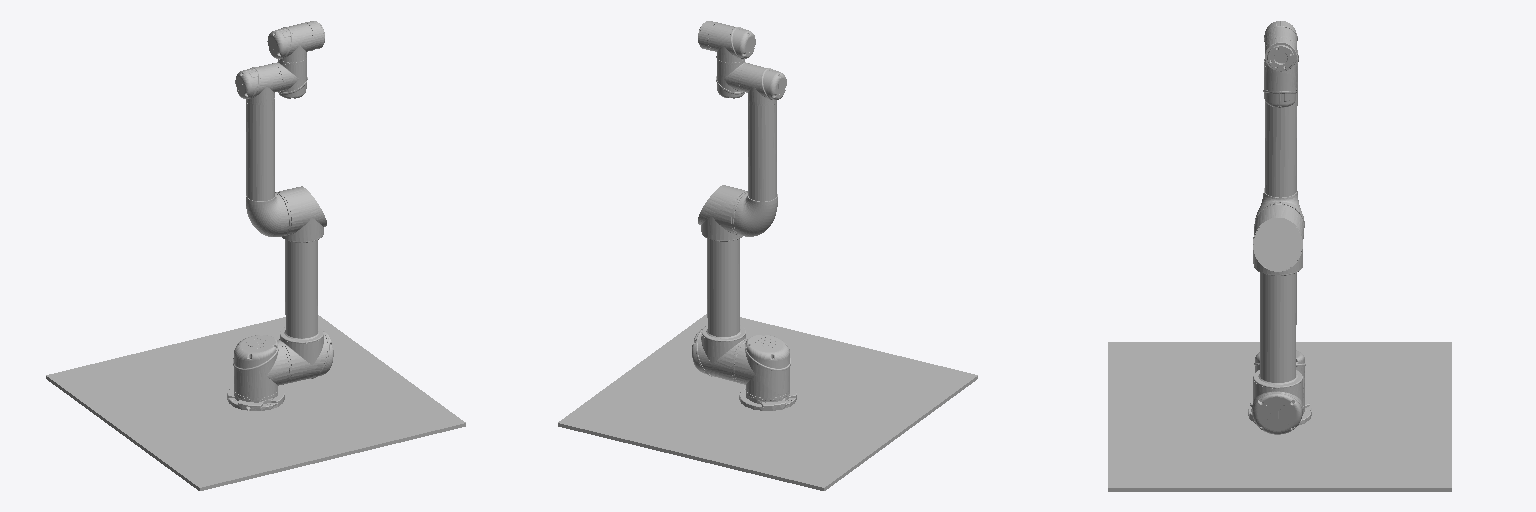
robot.urdf — trial1:
<?xml version="1.0" encoding="utf-8" ?>
<robot name="trial1">
    <!-- joint_1 transmission -->
    <transmission name="joint_1_transmission">
        <type>transmission_interface/SimpleTransmission</type>
        <joint name="base_link1_joint">
            <hardwareInterface>hardware_interface/EffortJointInterface</hardwareInterface>
        </joint>
        <actuator name="link1_motor">
            <mechanicalReduction>1</mechanicalReduction>
            <hardwareInterface>hardware_interface/EffortJointInterface</hardwareInterface>
        </actuator>
    </transmission>
    <!-- joint_2 transmission -->
    <transmission name="joint_2_transmission">
        <type>transmission_interface/SimpleTransmission</type>
        <joint name="link1_link2_joint">
            <hardwareInterface>hardware_interface/EffortJointInterface</hardwareInterface>
        </joint>
        <actuator name="link2_motor">
            <mechanicalReduction>1</mechanicalReduction>
            <hardwareInterface>hardware_interface/EffortJointInterface</hardwareInterface>
        </actuator>
    </transmission>
    <!-- joint_3 transmission -->
    <transmission name="joint_3_transmission">
        <type>transmission_interface/SimpleTransmission</type>
        <joint name="link2_link3_joint">
            <hardwareInterface>hardware_interface/EffortJointInterface</hardwareInterface>
        </joint>
        <actuator name="link3_motor">
            <mechanicalReduction>1</mechanicalReduction>
            <hardwareInterface>hardware_interface/EffortJointInterface</hardwareInterface>
        </actuator>
    </transmission>
    <!-- joint_4 transmission -->
    <transmission name="joint_4_transmission">
        <type>transmission_interface/SimpleTransmission</type>
        <joint name="link3_link4_joint">
            <hardwareInterface>hardware_interface/EffortJointInterface</hardwareInterface>
        </joint>
        <actuator name="link4_motor">
            <mechanicalReduction>1</mechanicalReduction>
            <hardwareInterface>hardware_interface/EffortJointInterface</hardwareInterface>
        </actuator>
    </transmission>
    <!-- joint_5 transmission -->
    <transmission name="joint_5_transmission">
        <type>transmission_interface/SimpleTransmission</type>
        <joint name="link4_link5_joint">
            <hardwareInterface>hardware_interface/EffortJointInterface</hardwareInterface>
        </joint>
        <actuator name="link5_motor">
            <mechanicalReduction>1</mechanicalReduction>
            <hardwareInterface>hardware_interface/EffortJointInterface</hardwareInterface>
        </actuator>
    </transmission>
    <!-- joint_6 transmission -->
    <transmission name="joint_6_transmission">
        <type>transmission_interface/SimpleTransmission</type>
        <joint name="link5_link6_joint">
            <hardwareInterface>hardware_interface/EffortJointInterface</hardwareInterface>
        </joint>
        <actuator name="link6_motor">
            <mechanicalReduction>1</mechanicalReduction>
            <hardwareInterface>hardware_interface/EffortJointInterface</hardwareInterface>
        </actuator>
    </transmission>
    <link name="base">
        <inertial>
            <origin xyz="-2.68085969102883E-05 -2.68490569042133E-05 0.00657485896604853" rpy="0 0 0" />
            <mass value="4.0" />
            <inertia ixx="0.00443333156" ixy="0.0" ixz="0.0" iyy="0.00443333156" iyz="0.0" izz="0.0072" />
        </inertial>
        <visual>
            <origin xyz="0 0 0" rpy="0 0 0" />
            <geometry>
                <mesh filename="package:// trial1/meshes/base.STL" />
            </geometry>
            <material name="">
                <color rgba="0.752941176470588 0.752941176470588 0.752941176470588 1" />
            </material>
        </visual>
        <collision>
            <origin xyz="0 0 0" rpy="0 0 0" />
            <geometry>
                <mesh filename="package:// trial1/meshes/base.STL" />
            </geometry>
        </collision>
    </link>
    <link name="link1">
        <inertial>
            <origin xyz="0.0164284556092243 -0.000580480774403006 0.0989577550019846" rpy="0 0 0" />
            <mass value="3.7" />
            <inertia ixx="0.010267495893" ixy="0.0" ixz="0.0" iyy="0.010267495893" iyz="0.0" izz="0.00666" />
        </inertial>
        <visual>
            <origin xyz="0 0 0" rpy="0 0 0" />
            <geometry>
                <mesh filename="package:// trial1/meshes/link1.STL" />
            </geometry>
            <material name="">
                <color rgba="0.752941176470588 0.752941176470588 0.752941176470588 1" />
            </material>
        </visual>
        <collision>
            <origin xyz="0 0 0" rpy="0 0 0" />
            <geometry>
                <mesh filename="package:// trial1/meshes/link1.STL" />
            </geometry>
        </collision>
    </link>
    <joint name="base_link1_joint" type="revolute">
        <origin xyz="0 0 0" rpy="0 0 0" />
        <parent link="base" />
        <child link="link1" />
        <axis xyz="0 0 1" />
        <limit effort="150.0" lower="-3.14159265" upper="3.14159265" velocity="3.15" />
        <dynamics damping="5.0" friction="5.0" />
    </joint>
    <link name="link2">
        <inertial>
            <origin xyz="0.00064961588106708 0.211074426913968 0.0696536698345357" rpy="0 0 0" />
            <mass value="8.393" />
            <inertia ixx="0.22689067591" ixy="0.0" ixz="0.0" iyy="0.22689067591" iyz="0.0" izz="0.0151074" />
        </inertial>
        <visual>
            <origin xyz="0 0 0" rpy="0 0 0" />
            <geometry>
                <mesh filename="package:// trial1/meshes/link2.STL" />
            </geometry>
            <material name="">
                <color rgba="0.752941176470588 0.752941176470588 0.752941176470588 1" />
            </material>
        </visual>
        <collision>
            <origin xyz="0 0 0" rpy="0 0 0" />
            <geometry>
                <mesh filename="package:// trial1/meshes/link2.STL" />
            </geometry>
        </collision>
    </link>
    <joint name="link1_link2_joint" type="revolute">
        <origin xyz="0.059962 -0.0021419 0.1" rpy="1.5708 0 1.5351" />
        <parent link="link1" />
        <child link="link2" />
        <axis xyz="0 0 -1" />
        <limit effort="150.0" lower="-3.14159265" upper="3.14159265" velocity="3.15" />
        <dynamics damping="5.0" friction="5.0" />
    </joint>
    <link name="link3">
        <inertial>
            <origin xyz="0.00172255792159225 0.187234537081283 -0.0400934283698093" rpy="0 0 0" />
            <mass value="2.275" />
            <inertia ixx="0.049443313556" ixy="0.0" ixz="0.0" iyy="0.049443313556" iyz="0.0" izz="0.004095" />
        </inertial>
        <visual>
            <origin xyz="0 0 0" rpy="0 0 0" />
            <geometry>
                <mesh filename="package:// trial1/meshes/link3.STL" />
            </geometry>
            <material name="">
                <color rgba="0.752941176470588 0.752941176470588 0.752941176470588 1" />
            </material>
        </visual>
        <collision>
            <origin xyz="0 0 0" rpy="0 0 0" />
            <geometry>
                <mesh filename="package:// trial1/meshes/link3.STL" />
            </geometry>
        </collision>
    </link>
    <joint name="link2_link3_joint" type="revolute">
        <origin xyz="0.0013122 0.425 -0.0002" rpy="0 0 0" />
        <parent link="link2" />
        <child link="link3" />
        <axis xyz="0 0 1" />
        <limit effort="150.0" lower="-3.14159265" upper="3.14159265" velocity="3.15" />
        <dynamics damping="5.0" friction="5.0" />
    </joint>
    <link name="link4">
        <inertial>
            <origin xyz="1.18942742642579E-05 0.00245539608874901 0.0492786687995241" rpy="0 0 0" />
            <mass value="1.219" />
            <inertia ixx="0.111172755531" ixy="0.0" ixz="0.0" iyy="0.111172755531" iyz="0.0" izz="0.21942" />
        </inertial>
        <visual>
            <origin xyz="0 0 0" rpy="0 0 0" />
            <geometry>
                <mesh filename="package:// trial1/meshes/link4.STL" />
            </geometry>
            <material name="">
                <color rgba="0.752941176470588 0.752941176470588 0.752941176470588 1" />
            </material>
        </visual>
        <collision>
            <origin xyz="0 0 0" rpy="0 0 0" />
            <geometry>
                <mesh filename="package:// trial1/meshes/link4.STL" />
            </geometry>
        </collision>
    </link>
    <joint name="link3_link4_joint" type="revolute">
        <origin xyz="0.003603 0.39223 -0.0032" rpy="0 0 0" />
        <parent link="link3" />
        <child link="link4" />
        <axis xyz="0 0 1" />
        <limit effort="28.0" lower="-3.14159265" upper="3.14159265" velocity="3.2" />
        <dynamics damping="5.0" friction="5.0" />
    </joint>
    <link name="link5">
        <inertial>
            <origin xyz="-0.000938396742247175 1.11149720530418E-05 0.0489429194980937" rpy="0 0 0" />
            <mass value="0.1879" />
            <inertia ixx="0.0171364731454" ixy="0.0" ixz="0.0" iyy="0.0171364731454" iyz="0.0" izz="0.033822" />
        </inertial>
        <visual>
            <origin xyz="0 0 0" rpy="0 0 0" />
            <geometry>
                <mesh filename="package:// trial1/meshes/link5.STL" />
            </geometry>
            <material name="">
                <color rgba="0.752941176470588 0.752941176470588 0.752941176470588 1" />
            </material>
        </visual>
        <collision>
            <origin xyz="0 0 0" rpy="0 0 0" />
            <geometry>
                <mesh filename="package:// trial1/meshes/link5.STL" />
            </geometry>
        </collision>
    </link>
    <joint name="link4_link5_joint" type="revolute">
        <origin xyz="0.00041521 0.041548 0.05337" rpy="-1.5708 -1.5351 -0.0099931" />
        <parent link="link4" />
        <child link="link5" />
        <axis xyz="0 0 -1" />
        <limit effort="28.0" lower="-3.14159265" upper="3.14159265" velocity="3.2" />
        <dynamics damping="5.0" friction="5.0" />
    </joint>
    <link name="link6">
        <inertial>
            <origin xyz="-5.40549559664982E-05 -0.00017301568914363 0.0149779081623501" rpy="0 0 0" />
            <mass value="0.130146415437083" />
            <inertia ixx="5.50377428562704E-05" ixy="1.9869352778531E-07" ixz="3.14891667920488E-08" iyy="5.56116311143236E-05" iyz="1.00788535797681E-07" izz="9.01432526904547E-05" />
        </inertial>
        <visual>
            <origin xyz="0 0 0" rpy="0 0 0" />
            <geometry>
                <mesh filename="package:// trial1/meshes/link6.STL" />
            </geometry>
            <material name="">
                <color rgba="0.752941176470588 0.752941176470588 0.752941176470588 1" />
            </material>
        </visual>
        <collision>
            <origin xyz="0 0 0" rpy="0 0 0" />
            <geometry>
                <mesh filename="package:// trial1/meshes/link6.STL" />
            </geometry>
        </collision>
    </link>
    <joint name="link5_link6_joint" type="revolute">
        <origin xyz="0.04867 0.00012719 0.05337" rpy="-1.5708 -0.13567 -1.5682" />
        <parent link="link5" />
        <child link="link6" />
        <axis xyz="0 0 -1" />
        <limit lower="-0.5" upper="0.5" effort="10" velocity="10" />
    </joint>
    <!-- define the ur5's position and orientation in the world coordinate system -->
    <link name="world" />
    <joint name="world_joint" type="fixed">
        <parent link="world" />
        <child link="base" />
        <!-- TODO: check base_link name of robot -->
        <origin rpy="0.0 0.0 0.0" xyz="0.0 0.0 0.0" />
    </joint>
    <gazebo>
        <plugin name="gazebo_ros_control">
            <robotNamespace>/</robotNamespace>
        </plugin>
    </gazebo>
</robot>

--- Facts derived from the render (not from the file) ---
The picture shows the robot from 3 angles, left to right: view 1: azimuth 30°, elevation 25°; view 2: azimuth 150°, elevation 25°; view 3: azimuth 270°, elevation 25°; orthographic projection.
Robot: trial1 — 8 links, 7 joints (6 revolute, 1 fixed); root link world; default pose: every joint at zero.
Visible links, largest first — view 1: base, link2, link3, link1, link5, link4; view 2: base, link2, link3, link1, link5, link4; view 3: base, link2, link3, link4, link6, link5.
Link boxes in pixels (bbox=[...]): base: bbox=[46, 315, 465, 490]; link2: bbox=[275, 186, 333, 383]; link3: bbox=[235, 63, 288, 236]; link1: bbox=[233, 335, 291, 397]; link5: bbox=[267, 22, 315, 61]; link4: bbox=[276, 58, 307, 98]; base: bbox=[558, 314, 977, 490]; link2: bbox=[692, 185, 747, 381]; link3: bbox=[734, 63, 786, 236]; link1: bbox=[732, 335, 790, 397]; link5: bbox=[707, 22, 755, 62]; link4: bbox=[716, 56, 748, 98]; base: bbox=[1108, 342, 1451, 491]; link2: bbox=[1251, 203, 1304, 434]; link3: bbox=[1255, 50, 1304, 224]; link4: bbox=[1263, 61, 1296, 107]; link6: bbox=[1265, 38, 1296, 71]; link5: bbox=[1264, 21, 1297, 63].
Size in the robot's own frame: 0.8 by 0.8 by 1.05 metres.
7 mesh visuals loaded from 7 distinct referenced files (7 binary STL).